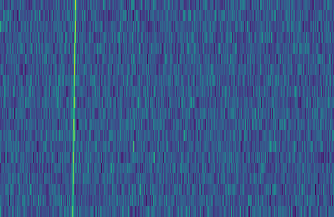signal: (66, 0, 78, 217)
